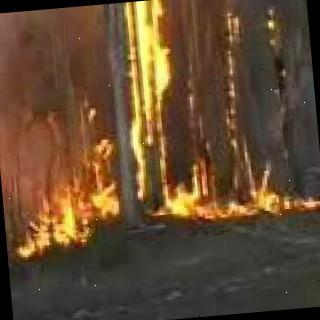fire: (123, 0, 197, 221), (22, 177, 136, 263), (230, 168, 318, 222)
